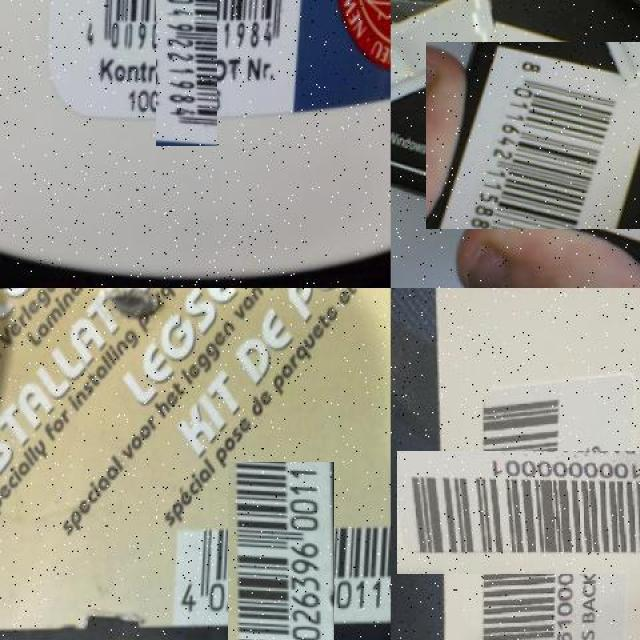Barcode: (440, 29, 640, 243), (430, 418, 619, 607), (199, 491, 362, 640), (114, 0, 260, 104)
